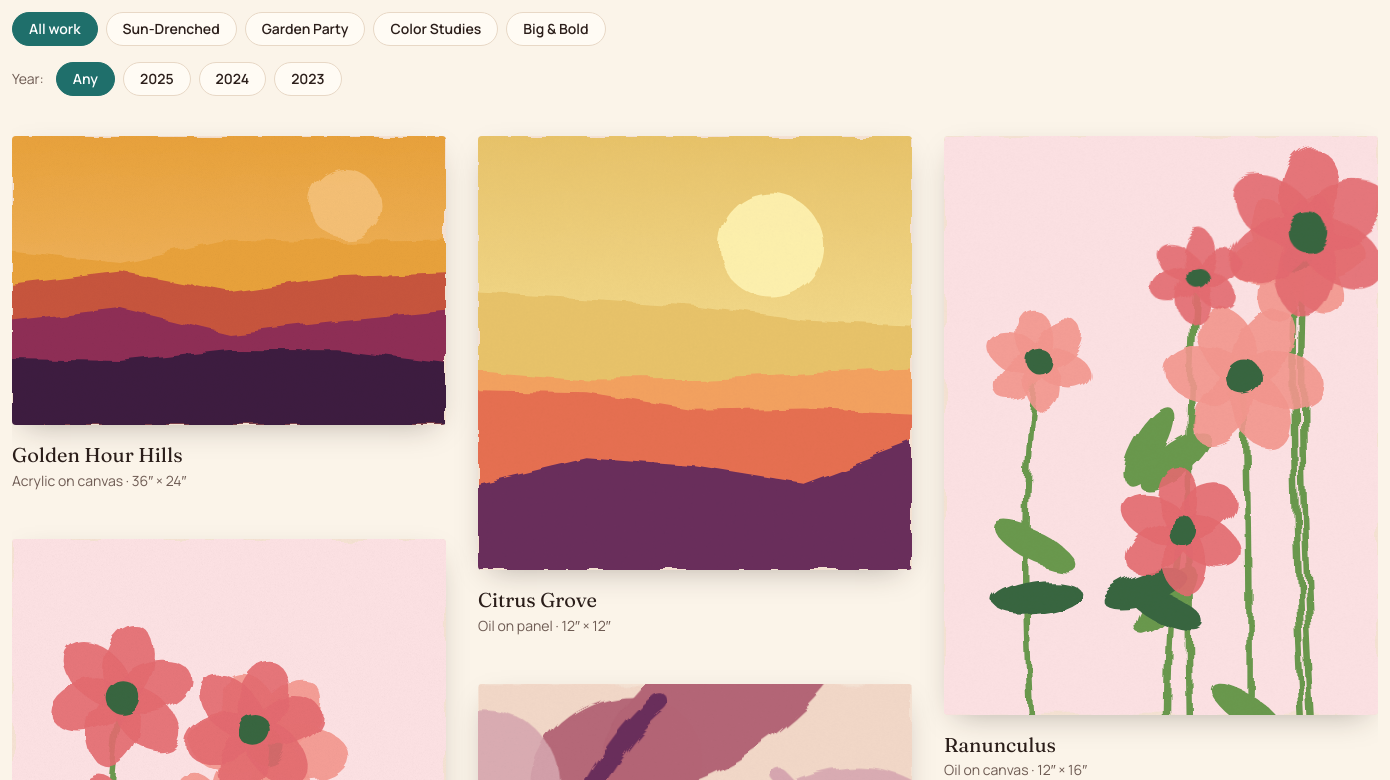
GalleryBrowser › combines filters and says when nothing matches
The width and height of the screenshot is (1390, 780).
Click the button "Big & Bold": (556, 29) [506,12,606,46]
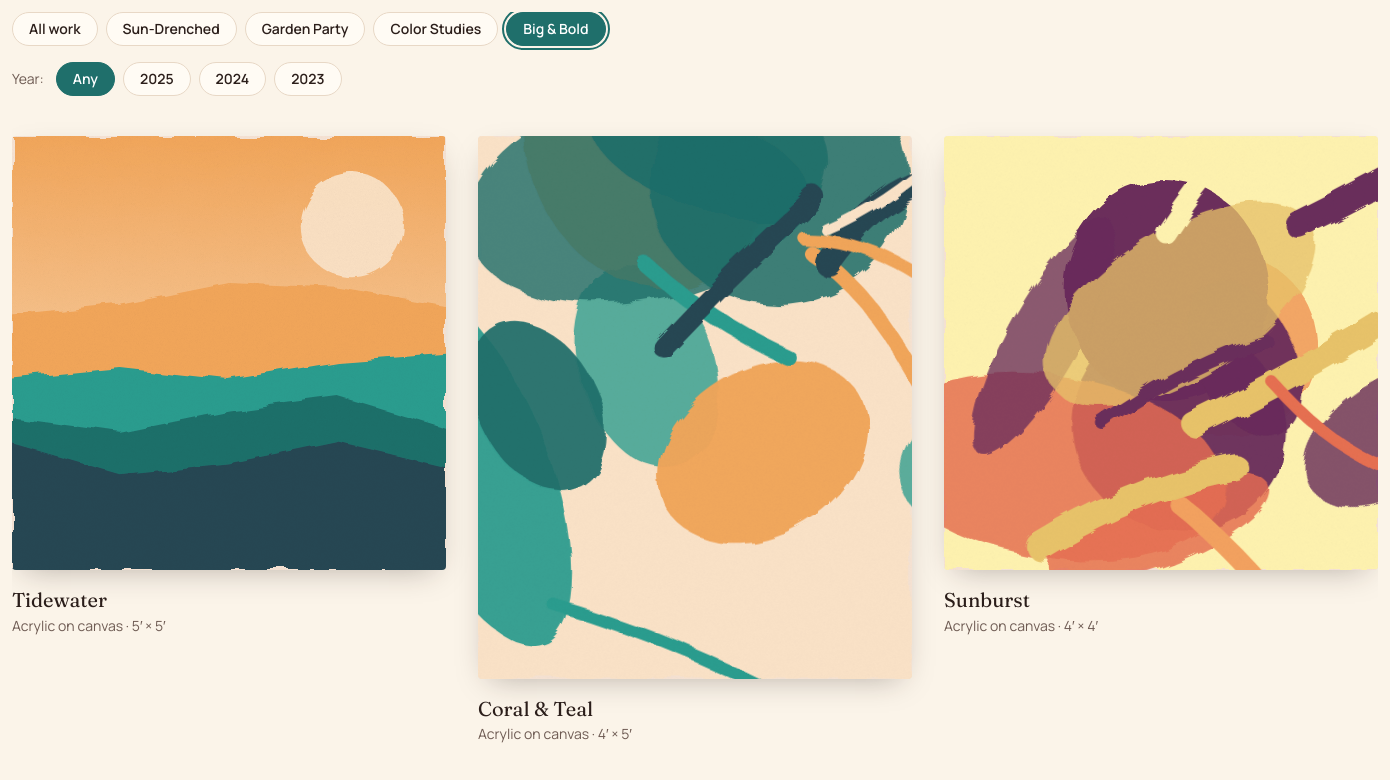
Click the button "2024": (232, 79) [198,62,266,96]
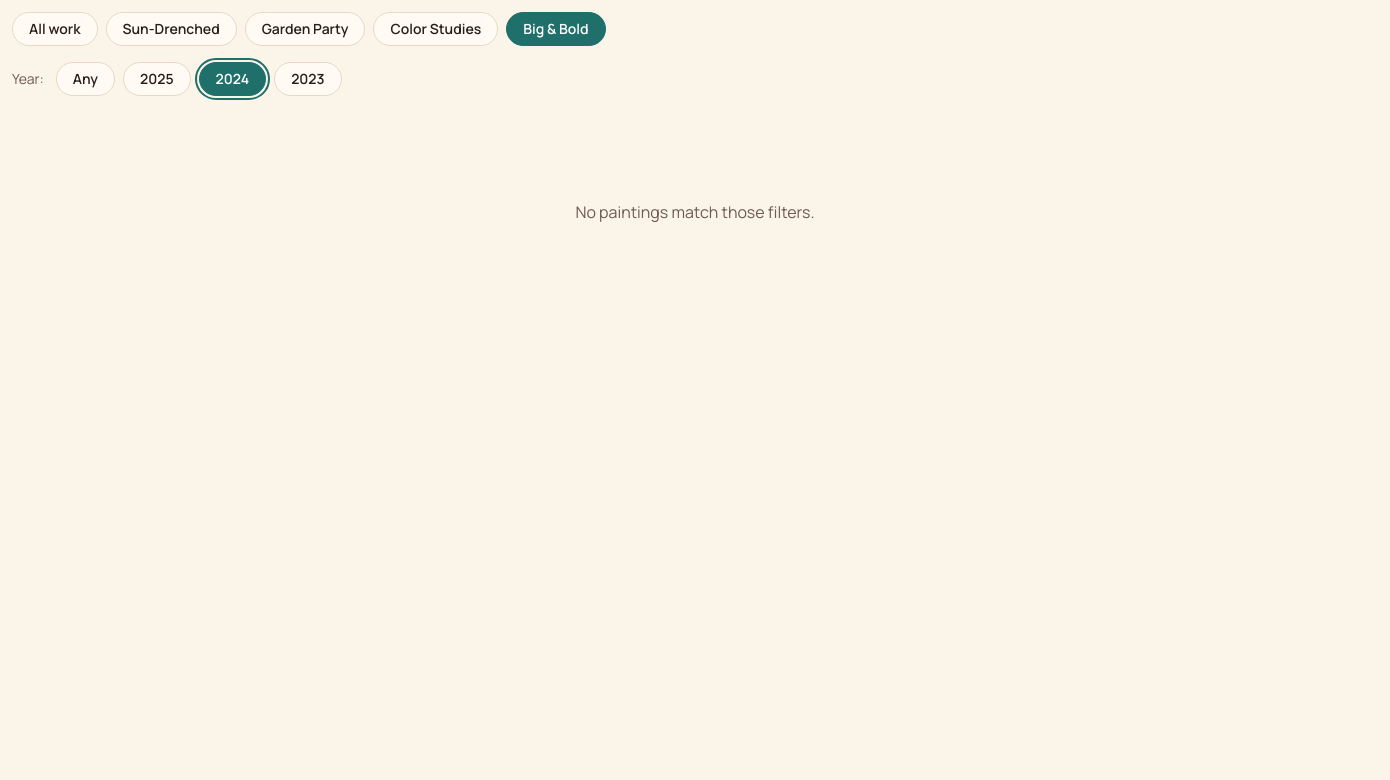
Check: the text "No paintings match those filters." is shown, box [576,201,814,223]
